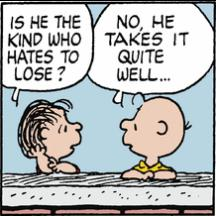charlie: (119, 91, 193, 181)
